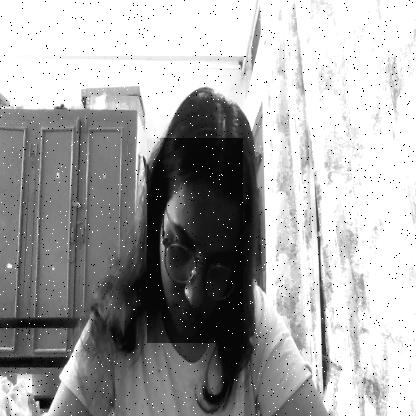Normal: (147, 138, 243, 343)
